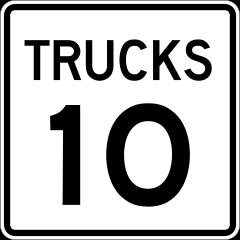Speed Limit -10-: (32, 92, 198, 222)
